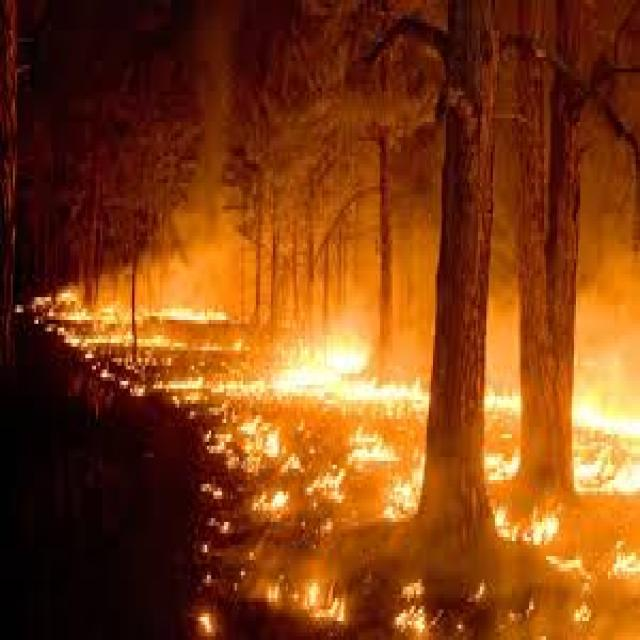Fire: (34, 275, 220, 346), (248, 310, 380, 404), (123, 342, 243, 408), (574, 380, 640, 450), (285, 568, 348, 628), (382, 460, 435, 528), (536, 539, 592, 586), (206, 419, 248, 479), (176, 592, 224, 640), (502, 513, 571, 545), (338, 439, 406, 466), (392, 598, 427, 640), (251, 430, 300, 458), (486, 378, 516, 422), (486, 454, 527, 481), (258, 483, 294, 510), (262, 584, 289, 614), (562, 604, 606, 622)
